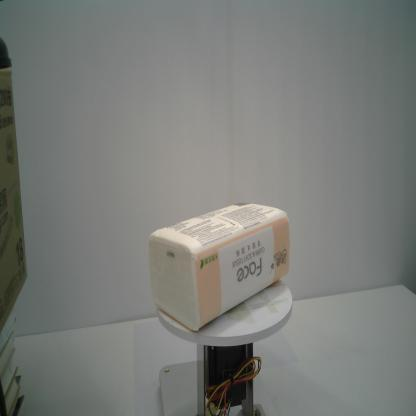Tissue: (147, 201, 291, 333)
